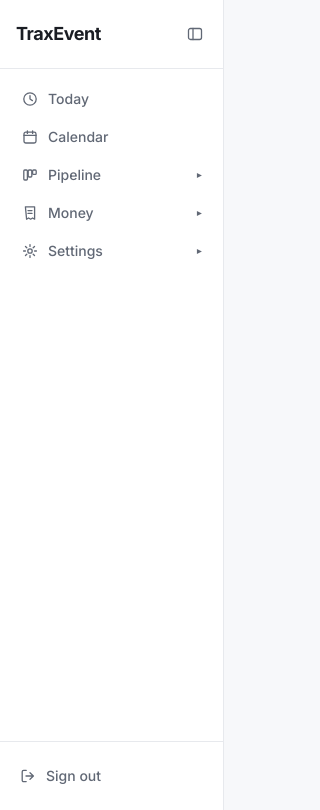
Scenario: AdminSidebar workspace nav gating › hides links whose module is not enabled
Expected: the text "Pipeline" is shown, [48, 165, 101, 185]
Click the button named "expand pipeline" at (199,175), box [187, 163, 211, 187]
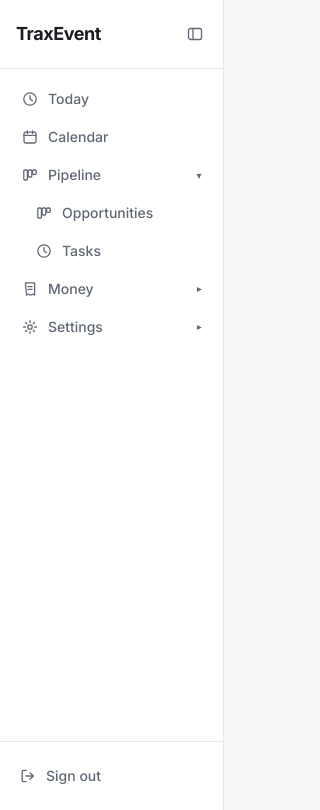
Click the button named "expand money" at (199,289), box [187, 277, 211, 301]
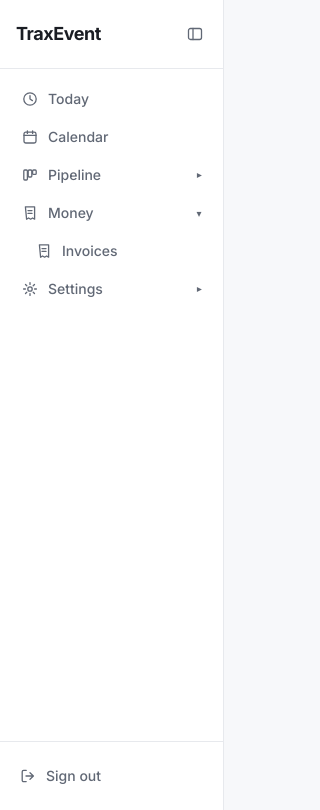
Expected: the text "Invoices" is shown, [62, 241, 118, 261]
